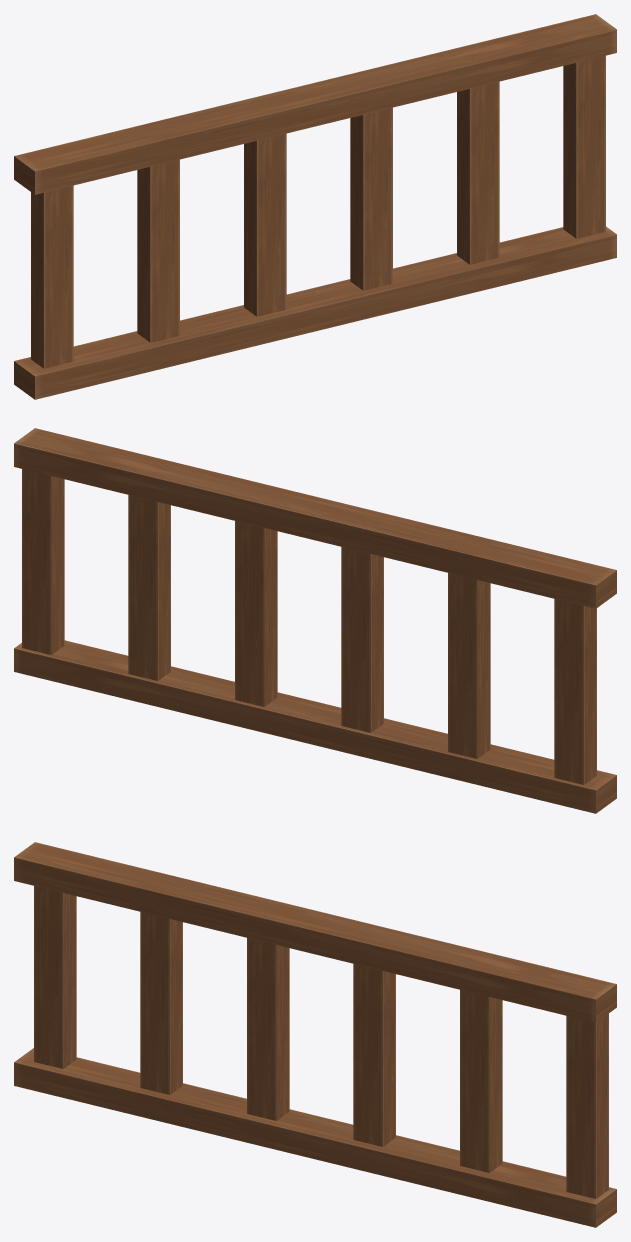
The model's file is sm_building_weilan01_01.fbx.
3 renders of one model, top to bottom at view 1: azimuth 30°, elevation 25°; view 2: azimuth 150°, elevation 25°; view 3: azimuth 330°, elevation 25°, orthographic.
Visible parts, largest first — view 1: WB1_Fence2, WB1_Fence1; view 2: WB1_Fence2, WB1_Fence1; view 3: WB1_Fence2, WB1_Fence1.
Part boxes in pixels (<box>): WB1_Fence2: <box>14,14,616,399</box>; WB1_Fence1: <box>31,55,605,368</box>; WB1_Fence2: <box>14,428,616,813</box>; WB1_Fence1: <box>22,469,596,784</box>; WB1_Fence2: <box>14,842,616,1227</box>; WB1_Fence1: <box>34,886,608,1198</box>.
Bounding box in the file's own units: 256 × 96 × 16.
1 material, 1 textured.
